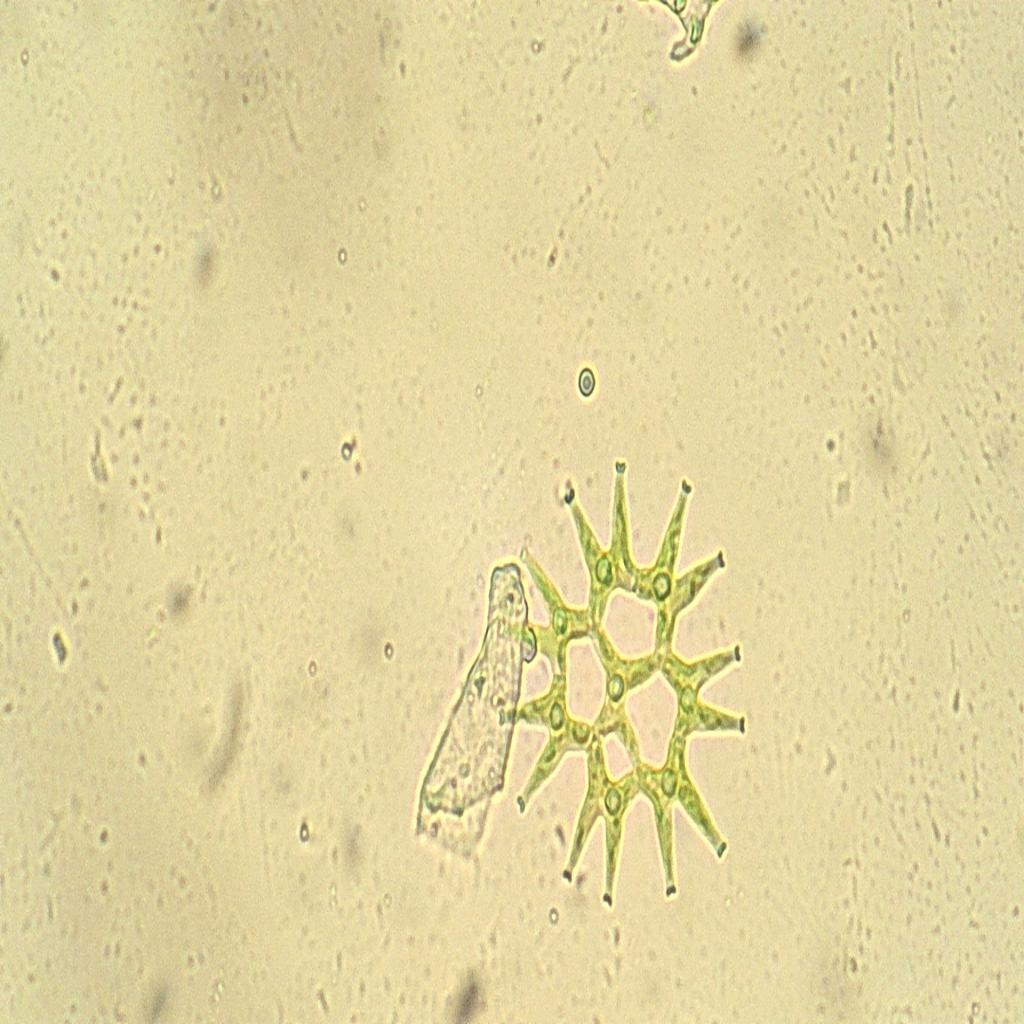Pediastrum_75T: (483, 440, 760, 934)
